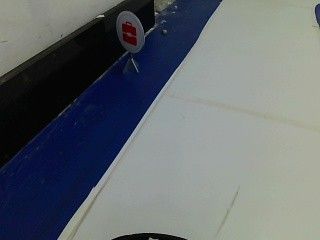company: (113, 10, 145, 51)
